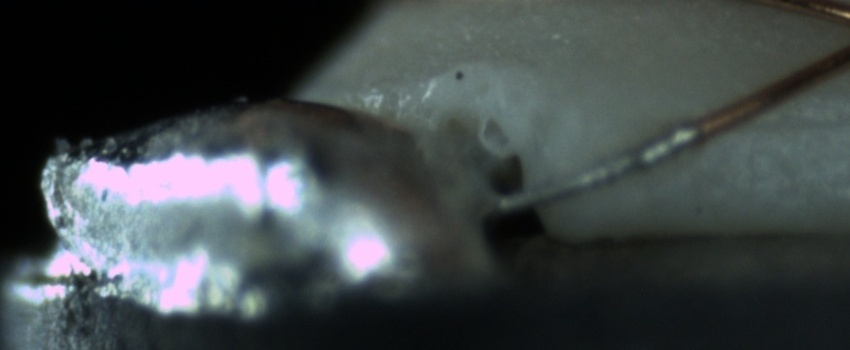DL: (746, 94, 849, 158)
TS: (490, 124, 701, 214)
TTCW: (486, 95, 761, 218)
